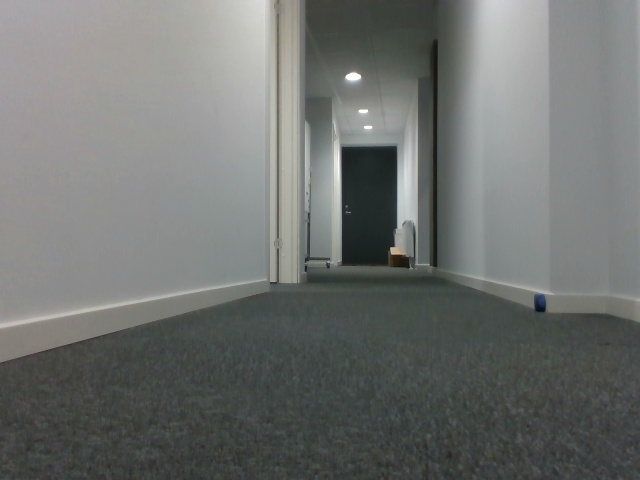alfa: (533, 291, 548, 315)
